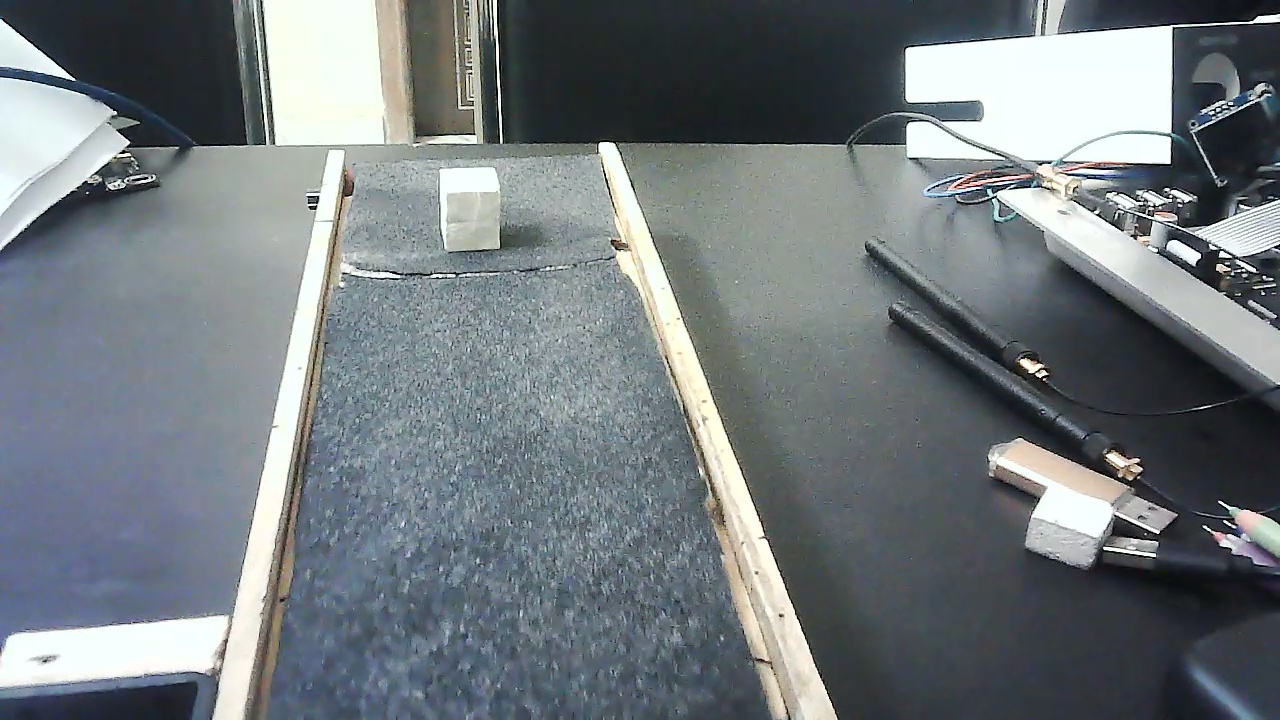Small: (430, 168, 513, 251)
